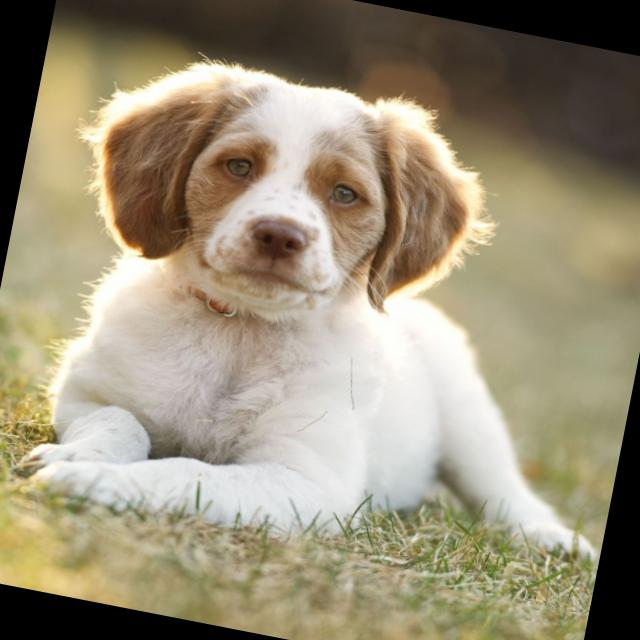dogs: (7, 38, 640, 606)
